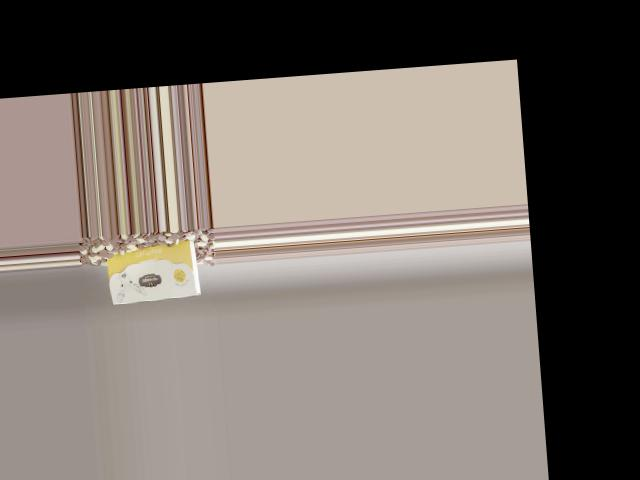chocolate: (100, 236, 205, 308)
